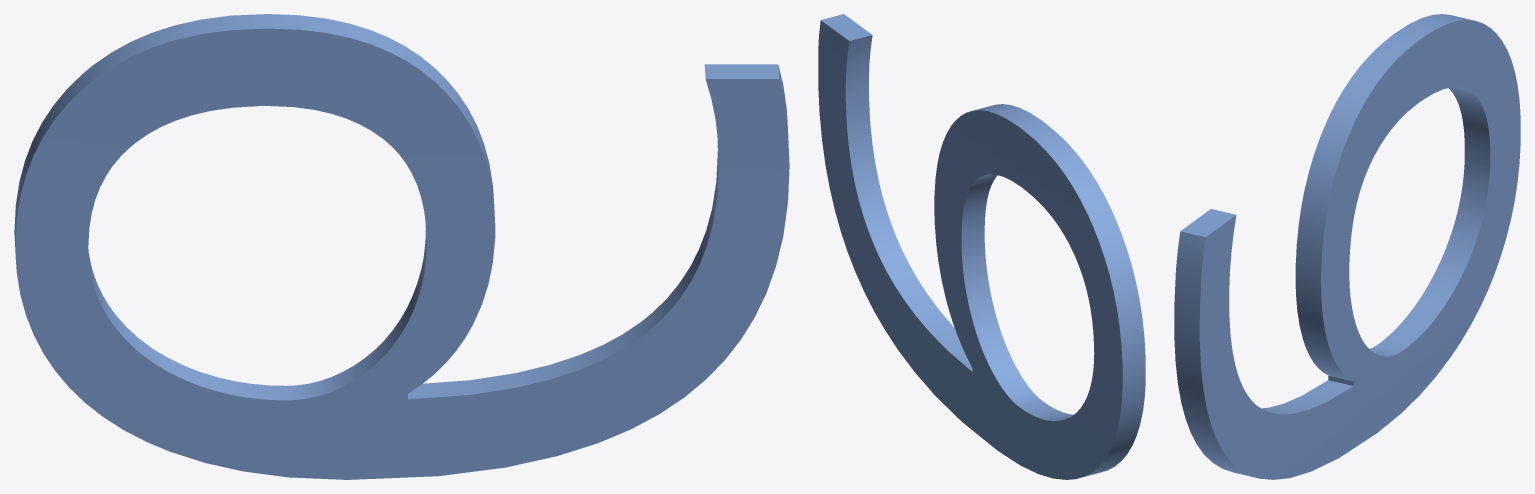
Rendered from New_Number_9.gltf.
3 views of the same model, side by side, from view 1: azimuth 30°, elevation 25°; view 2: azimuth 150°, elevation 25°; view 3: azimuth 270°, elevation 25° (orthographic). The views are drawn at different scales.
Visible parts, largest first — view 1: Part 513; view 2: Part 513; view 3: Part 513.
Part boxes in pixels (x1=…): Part 513: x1=14, y1=14, x2=789, y2=479; Part 513: x1=818, y1=14, x2=1145, y2=479; Part 513: x1=1174, y1=14, x2=1520, y2=479.
Size of the model in its own units: 0.00503 by 0.00359 by 0.00304.
